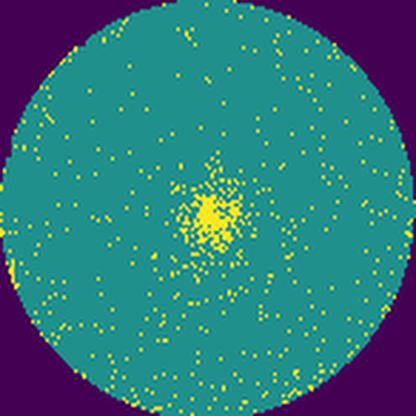Center: (176, 192, 245, 256)
